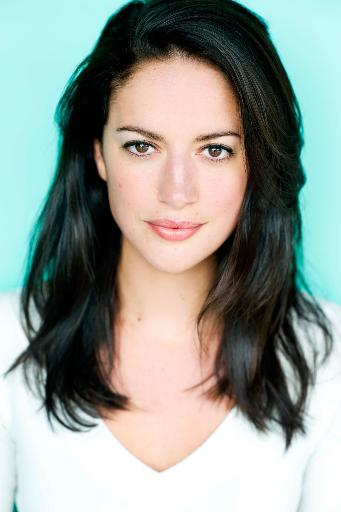left_eye: (197, 144, 235, 168)
left_lip_corner: (200, 217, 211, 234)
right_eye: (122, 140, 160, 163)
right_lip_corner: (142, 215, 156, 233)
